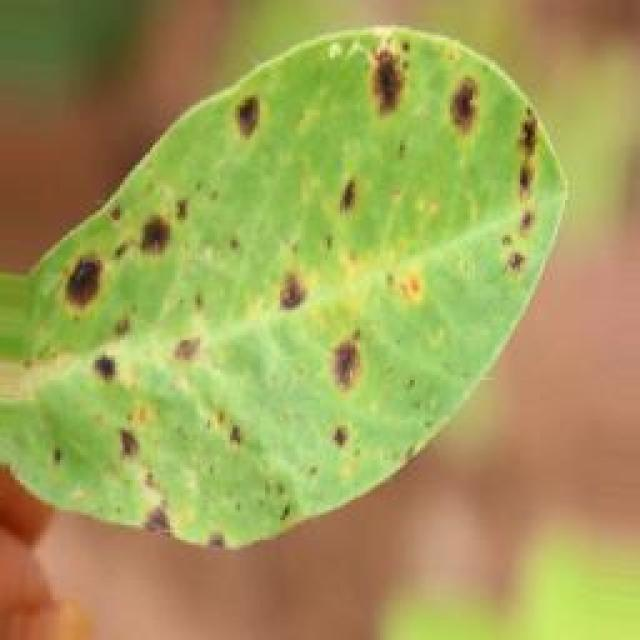Yellowish: (68, 35, 552, 541)
